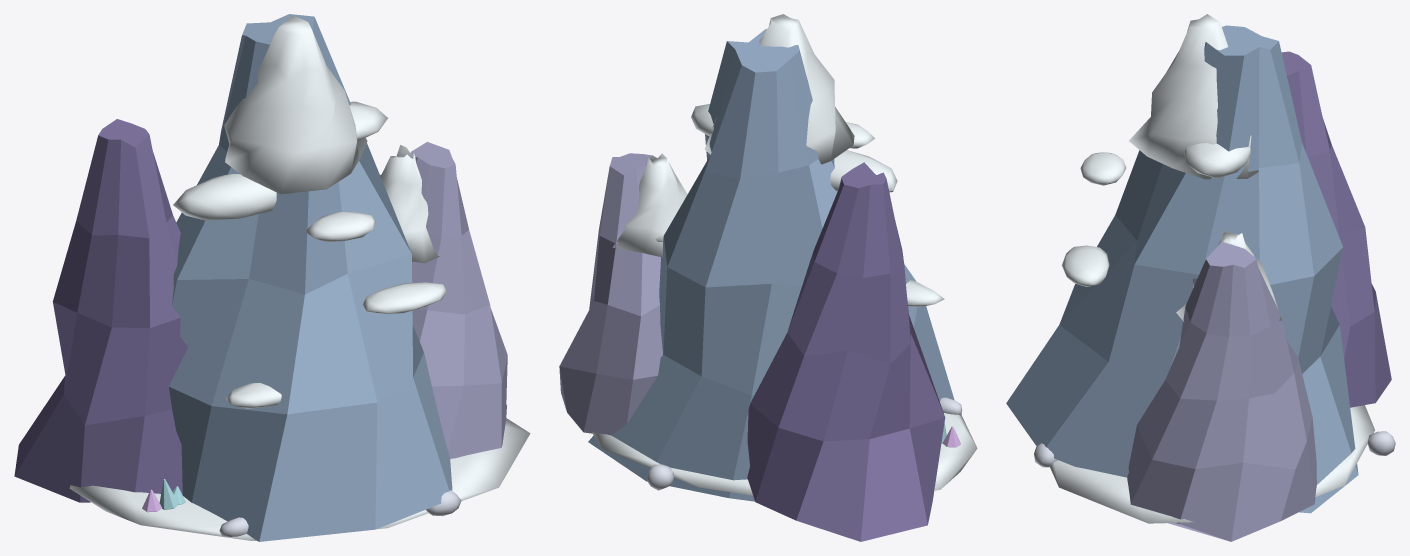
Rendered from northern_peak_a.glb.
3 views of the same model, side by side, from view 1: azimuth 30°, elevation 25°; view 2: azimuth 150°, elevation 25°; view 3: azimuth 270°, elevation 25° (orthographic). The views are drawn at different scales.
Parts seen in each view (by area): view 1: northern_peak_a.001; view 2: northern_peak_a.001; view 3: northern_peak_a.001.
Part boxes in pixels (x1=…): northern_peak_a.001: x1=14, y1=14, x2=530, y2=541; northern_peak_a.001: x1=559, y1=14, x2=977, y2=541; northern_peak_a.001: x1=1006, y1=14, x2=1395, y2=541.
Size of the model in its own units: 14.28 by 14 by 11.6.
